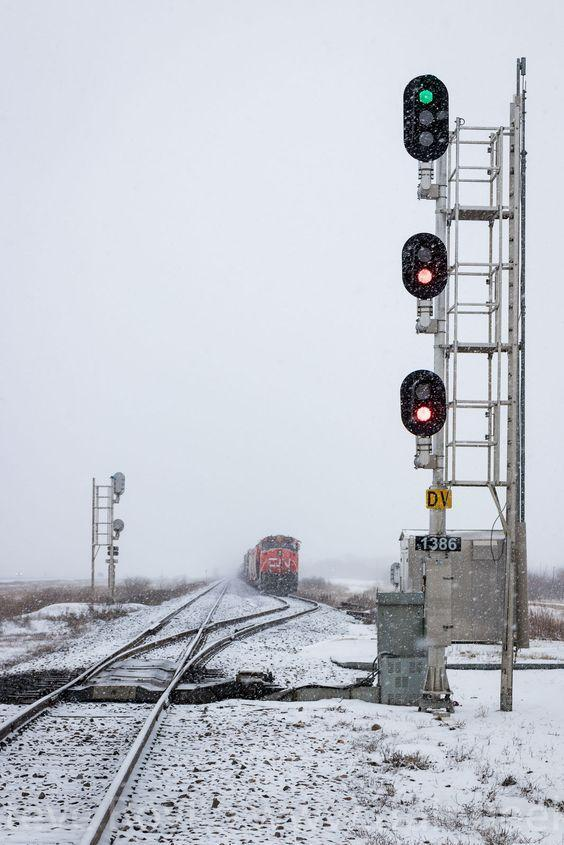green: (380, 72, 456, 178)
